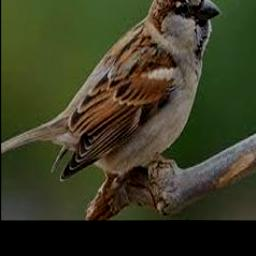Sparrow: (1, 0, 221, 182)
